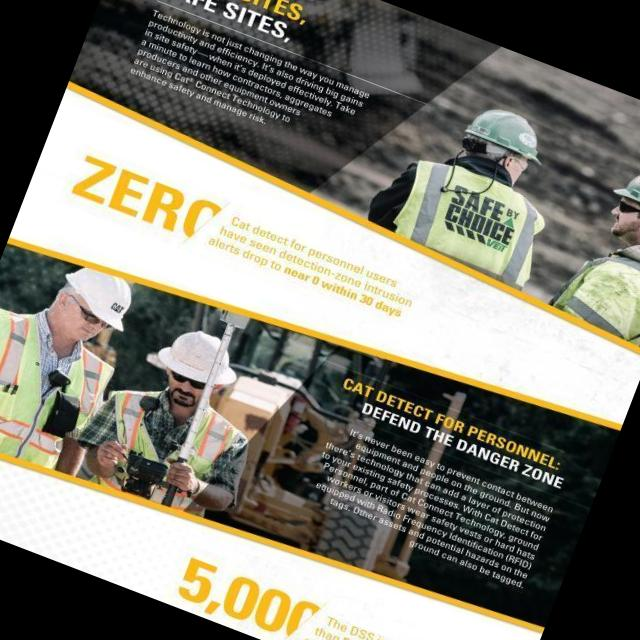hard_hat: (454, 89, 559, 171), (56, 262, 140, 330), (606, 147, 640, 231)
safety_vest: (79, 378, 250, 536), (380, 148, 553, 284), (0, 301, 86, 475), (555, 226, 640, 343)
